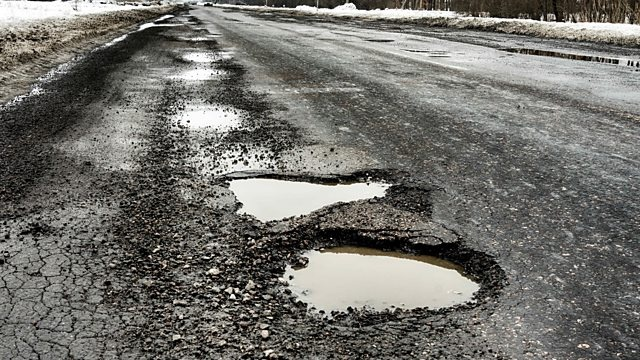pothole: (177, 142, 425, 241), (272, 222, 490, 310)
